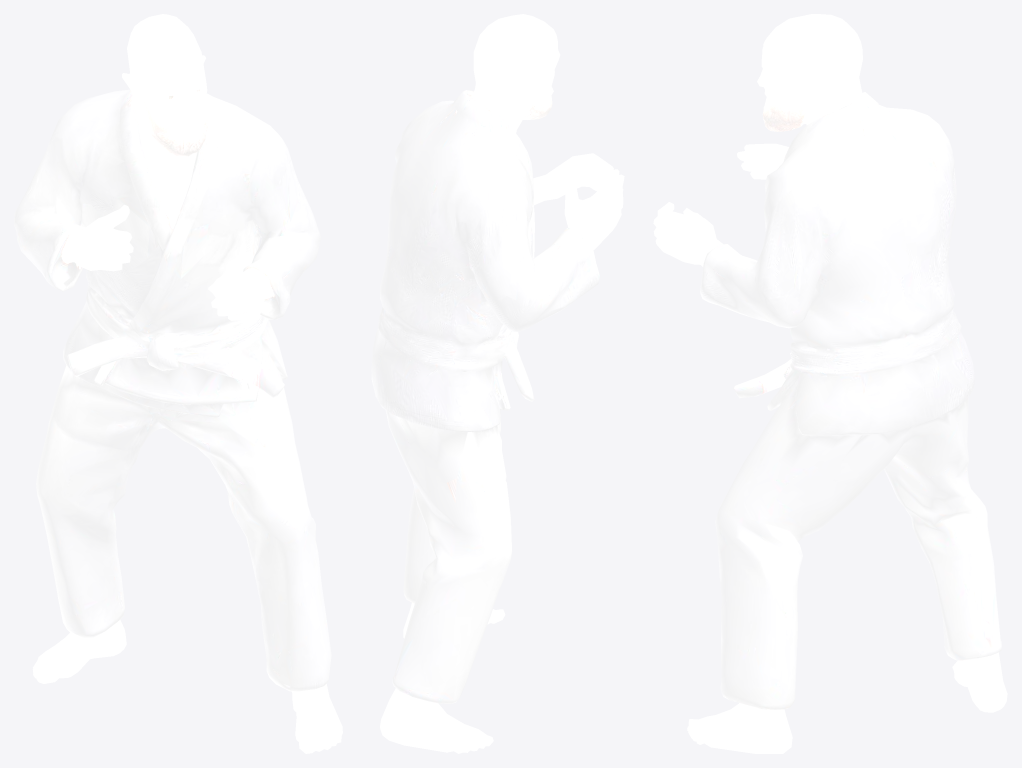
Rendered from statue_faixa_preta.glb.
3 renders of one model, left to right at view 1: azimuth 30°, elevation 25°; view 2: azimuth 150°, elevation 25°; view 3: azimuth 270°, elevation 25°, orthographic. The views are drawn at different scales.
Visible parts, largest first — view 1: Mesh_0; view 2: Mesh_0; view 3: Mesh_0.
Boxes of the visible parts, x1,y1,x2,y2 form: Mesh_0: (14,14,342,753); Mesh_0: (371,14,624,753); Mesh_0: (653,14,1007,753).
Size of the model in its own units: 0.6616 by 1.85 by 0.879.
Materials: 1 (1 with a texture image).
